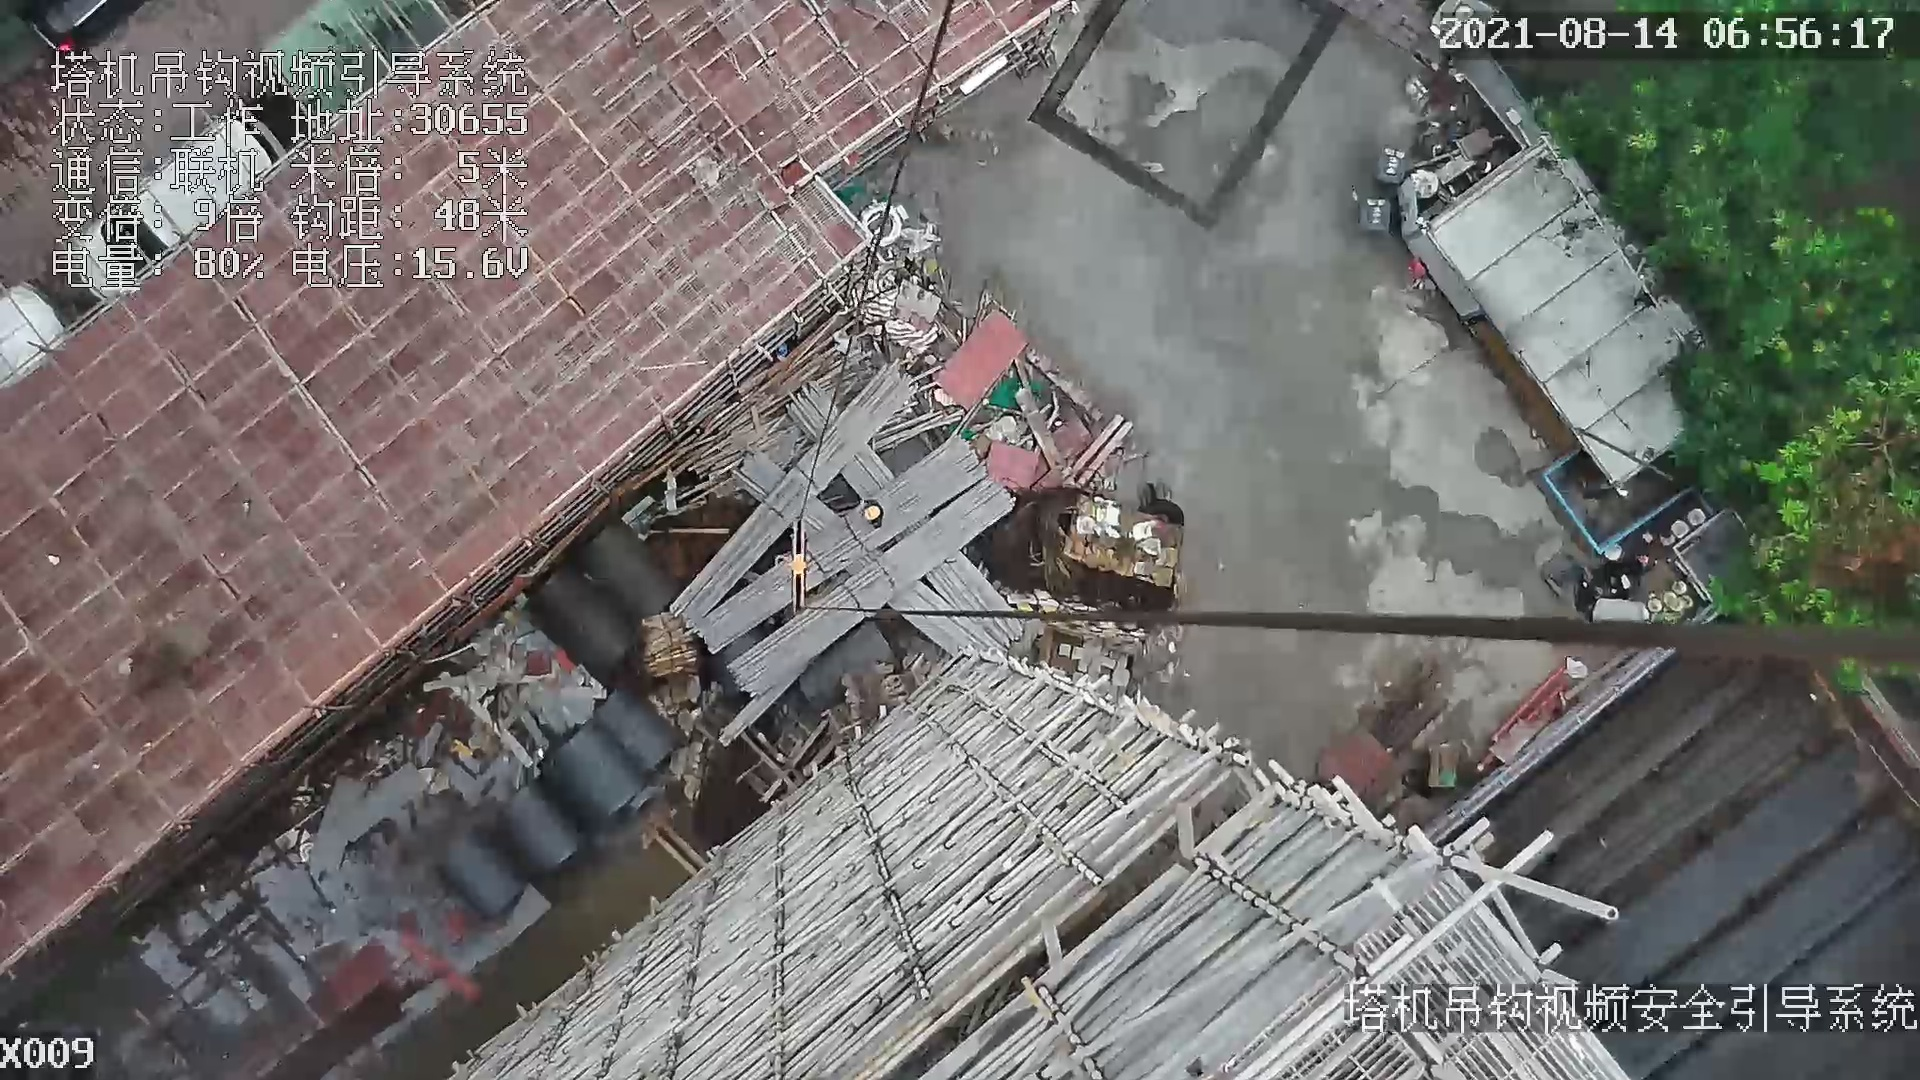helmet: (863, 505, 881, 520)
hook: (781, 519, 809, 612)
person: (860, 499, 884, 529)
rebar: (671, 361, 916, 630), (691, 431, 988, 653), (727, 477, 1015, 697), (925, 552, 1021, 644), (888, 583, 1002, 652)
wood: (642, 625, 697, 680)
